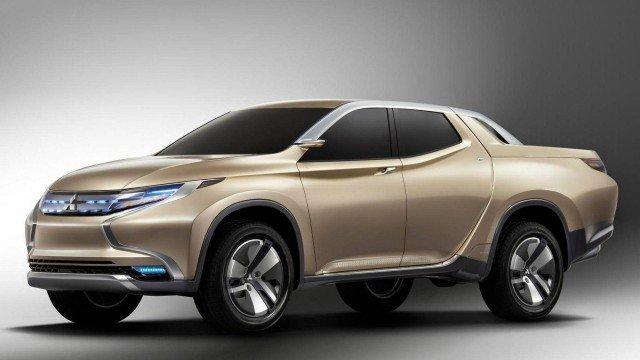Carro: (23, 96, 619, 325)
